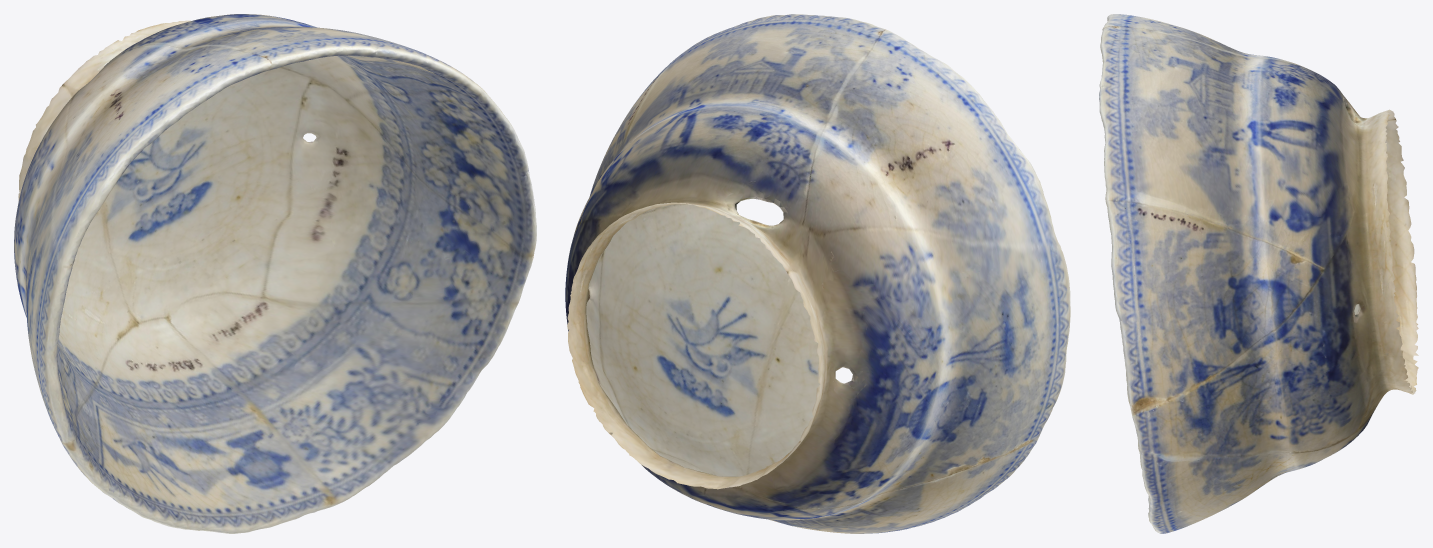
The model's file is bowl.glb.
The picture shows the model from 3 angles, left to right: view 1: azimuth 30°, elevation 25°; view 2: azimuth 150°, elevation 25°; view 3: azimuth 270°, elevation 25°; orthographic projection. The views are drawn at different scales.
Parts seen in each view (by area): view 1: Stereo textured mesh; view 2: Stereo textured mesh; view 3: Stereo textured mesh.
Part boxes in pixels (x1,y1,x2,y2): Stereo textured mesh: (14,14,536,533); Stereo textured mesh: (565,14,1070,533); Stereo textured mesh: (1099,14,1418,533).
Size of the model in its own units: 10 by 9.75 by 6.06.
Materials: 1 (1 with a texture image).
